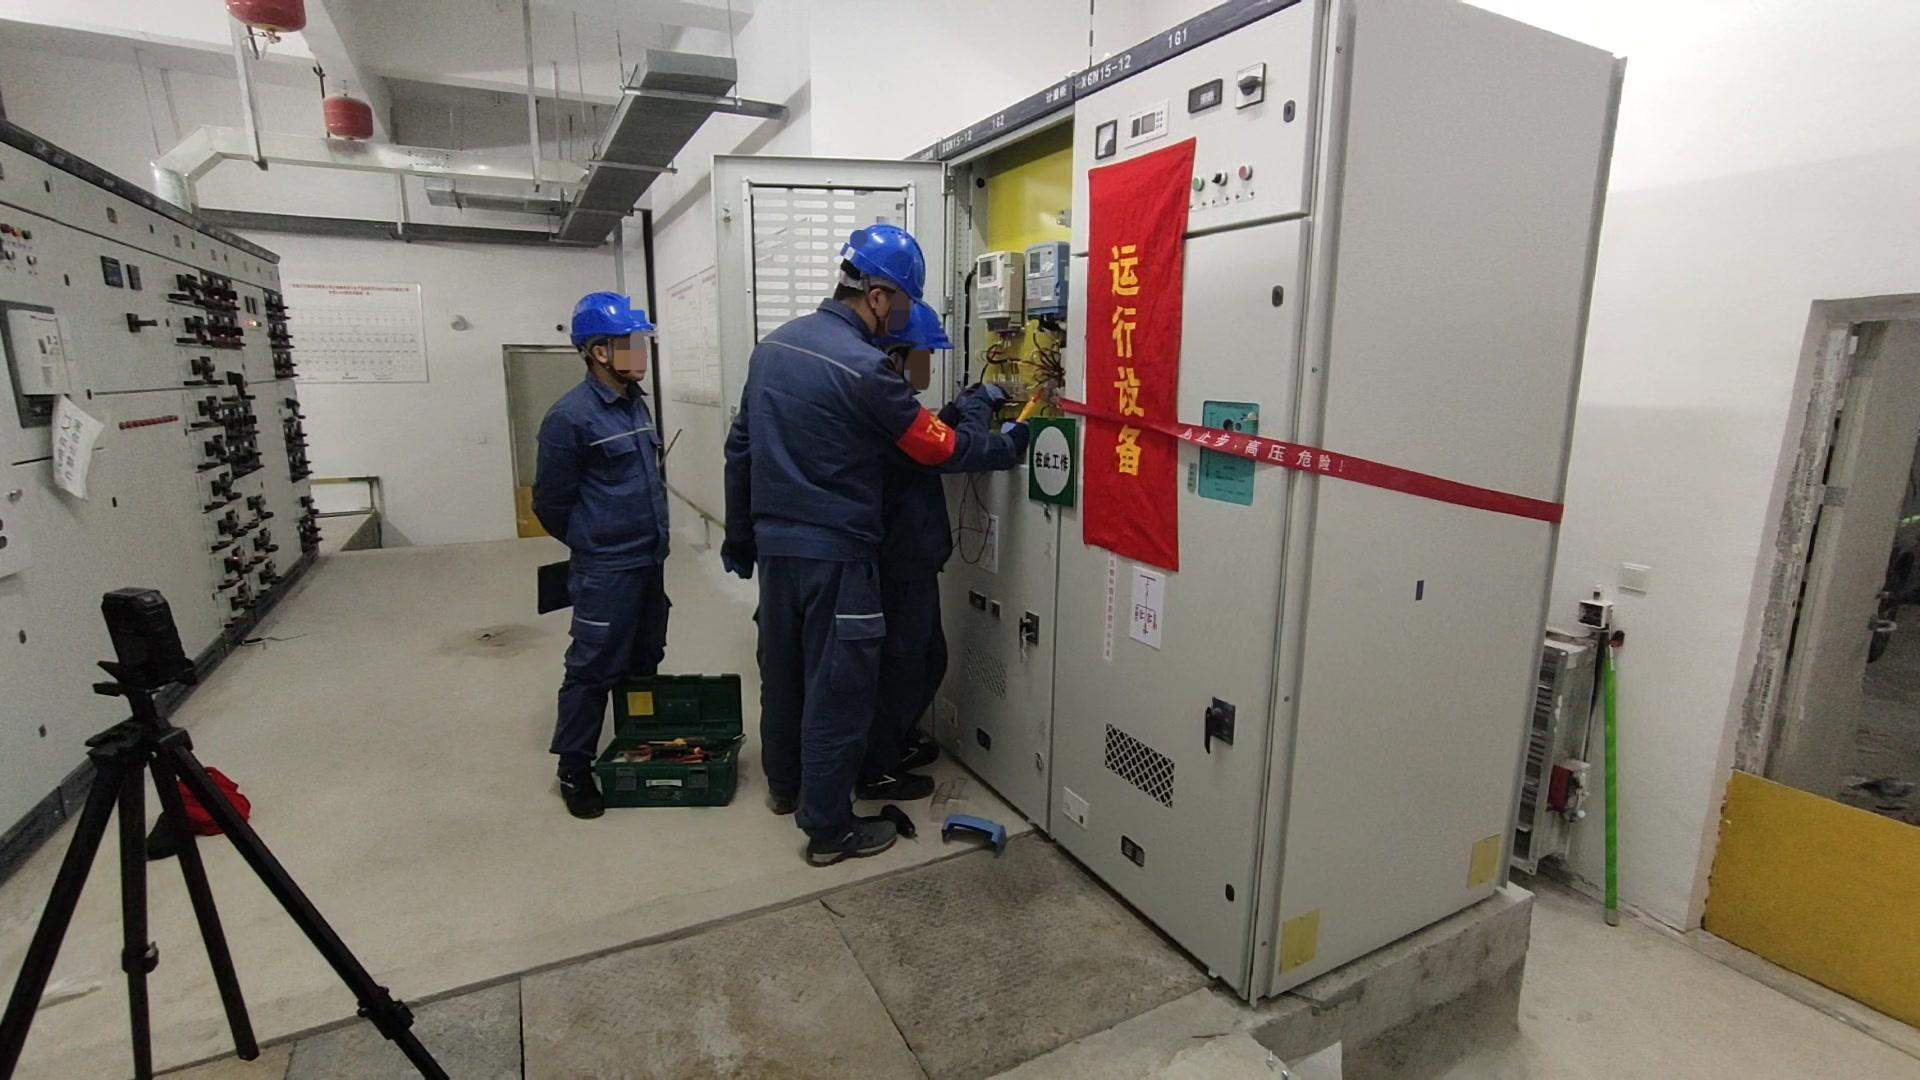halt: (568, 291, 659, 388), (841, 227, 930, 326), (885, 305, 953, 390), (895, 306, 956, 392)
inear: (582, 338, 624, 382), (862, 285, 901, 334)
